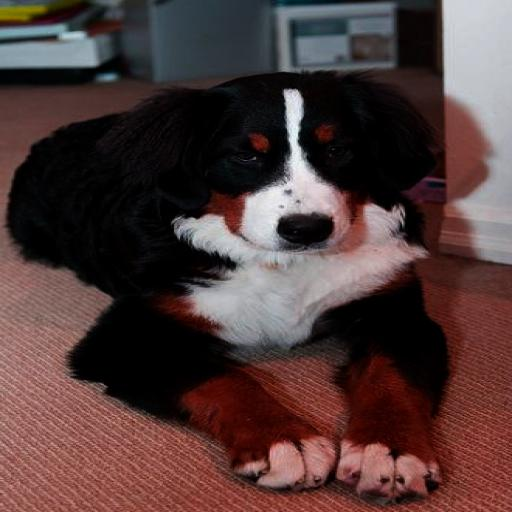dog_face: (128, 80, 437, 253)
